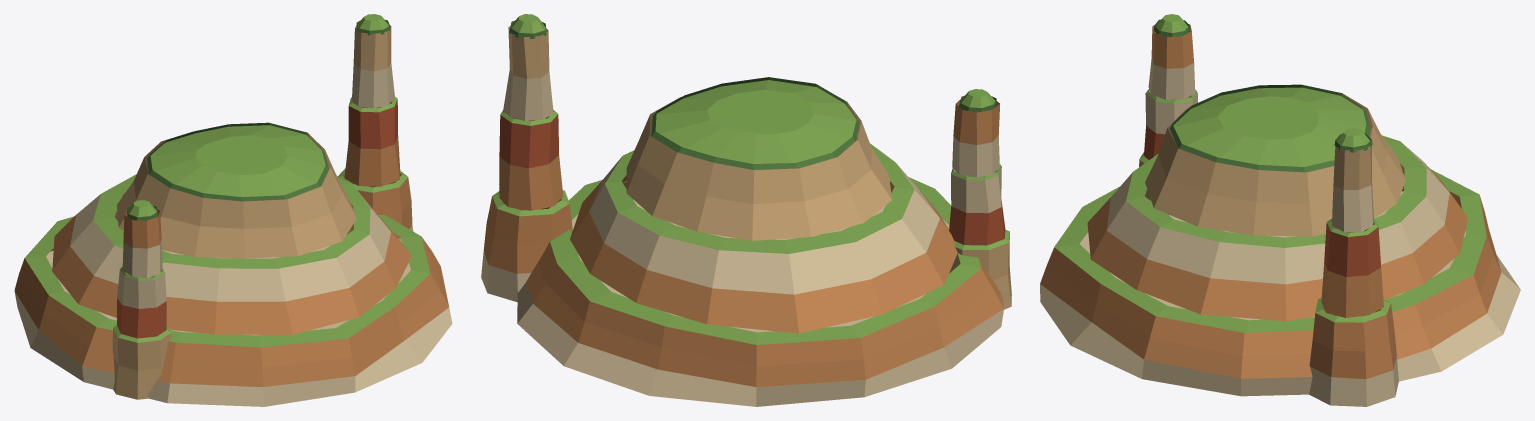
The model's file is mesa.glb.
3 renders of one model, left to right at view 1: azimuth 30°, elevation 25°; view 2: azimuth 150°, elevation 25°; view 3: azimuth 270°, elevation 25°, orthographic. The views are drawn at different scales.
Visible parts, largest first — view 1: mesa; view 2: mesa; view 3: mesa.
Boxes of the visible parts, x1=… form: mesa: x1=14, y1=14, x2=452, y2=406; mesa: x1=481, y1=14, x2=1011, y2=406; mesa: x1=1040, y1=14, x2=1520, y2=406.
Size of the model in its own units: 41.55 by 23.45 by 39.95.
